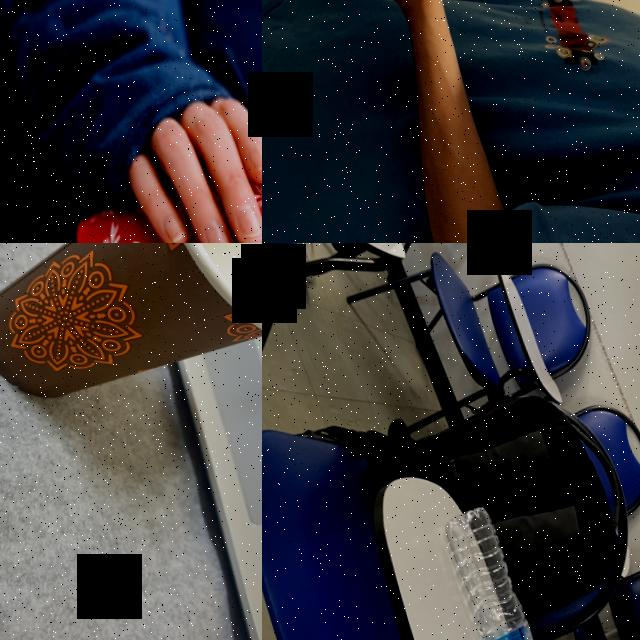bottle: (438, 501, 558, 640)
cup: (0, 243, 262, 418), (50, 117, 262, 243)
